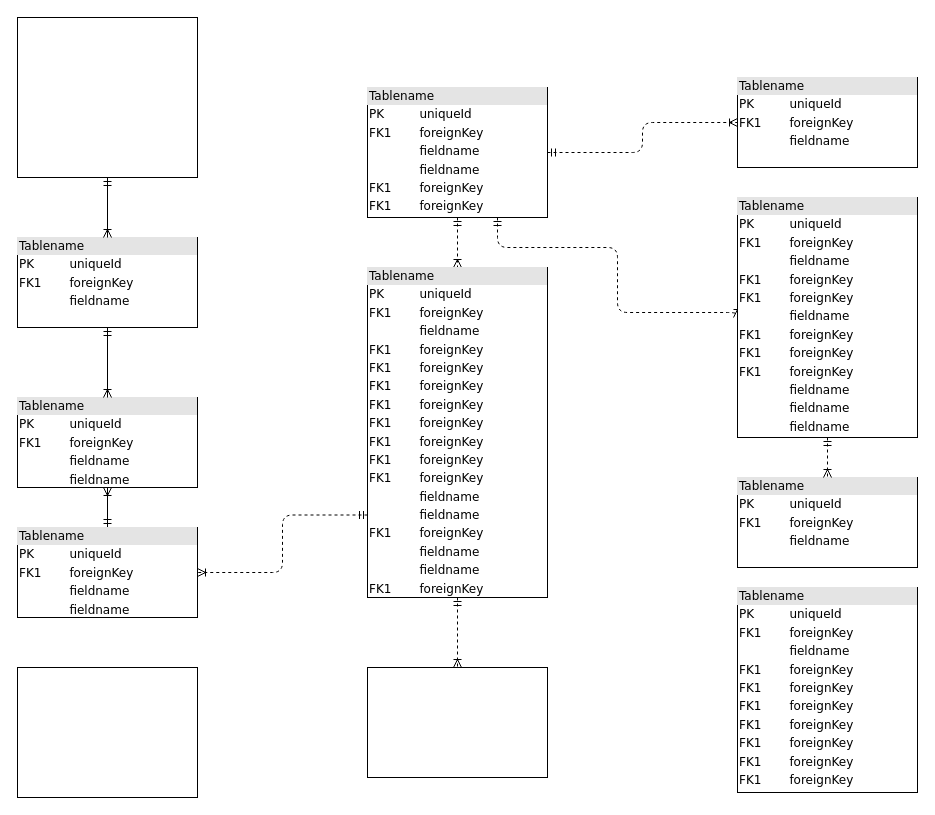
Some shapes in this 935 by 815 pixel diagram are drawn without their labels. Here are the shapes that lost their labels. From the top down, the centre of each, then its label:
the point at 107,97: CLIENTE PK uniqueId FK1 foreignKey fieldname
the point at 107,732: Tablename PK uniqueId FK1 foreignKey fieldname fieldname fieldname fieldname
the point at 457,722: Tablename PK uniqueId FK1 foreignKey fieldname fieldname FK1 foreignKey
